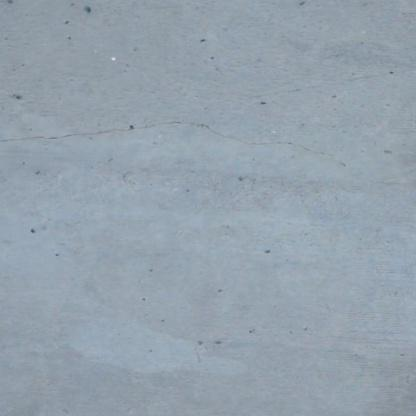Cracks: (0, 116, 416, 197)
